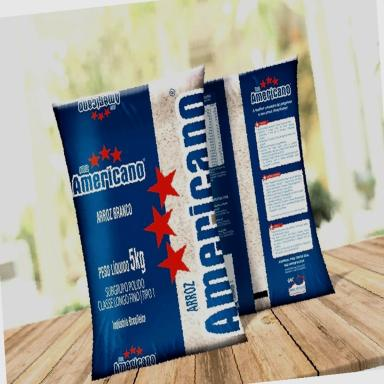rice package: (54, 67, 245, 379), (205, 58, 334, 314)
